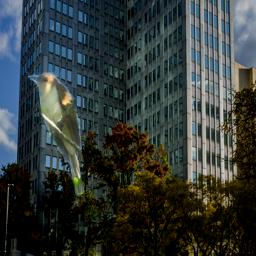Cuckoo: (26, 71, 85, 201)
